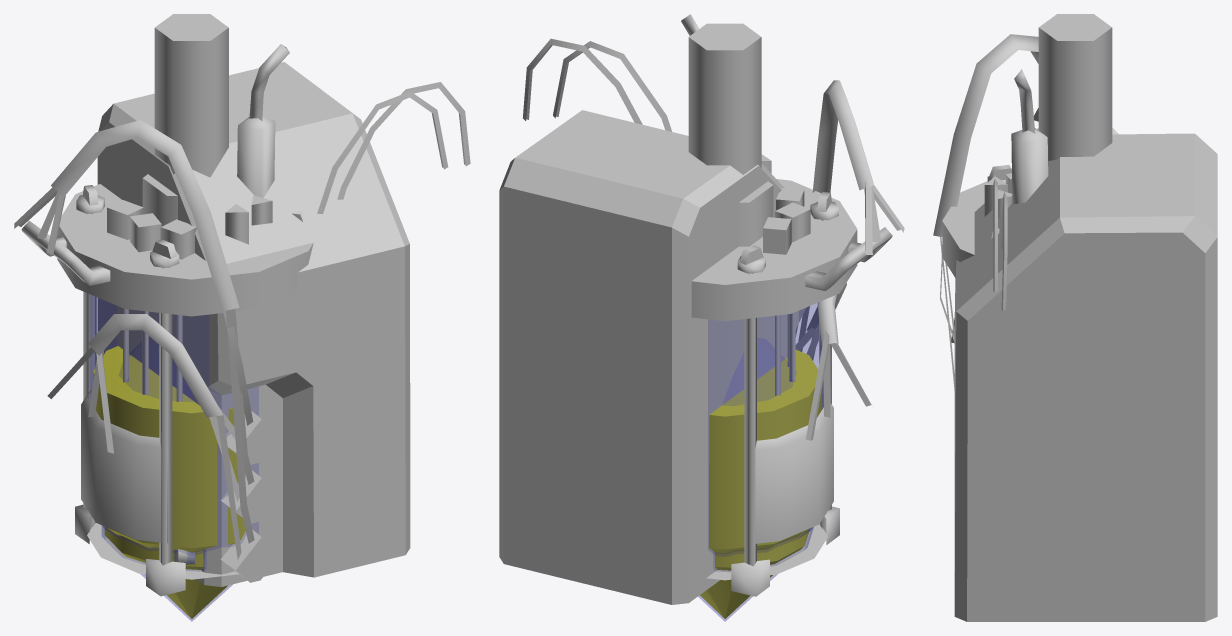
The model's file is fermentor_LOB.fbx.
3 views of the same model, side by side, from view 1: azimuth 30°, elevation 25°; view 2: azimuth 150°, elevation 25°; view 3: azimuth 270°, elevation 25° (orthographic).
Parts seen in each view (by area): view 1: cpu_LODB, fermentor_LODB, bottle_lod_B, pumps_LODB; view 2: cpu_LODB, fermentor_LODB, bottle_lod_B, pumps_LODB; view 3: cpu_LODB, fermentor_LODB, pumps_LODB.
Boxes of the visible parts, x1,y1,x2,y2 form: cpu_LODB: [14, 62, 410, 586]; fermentor_LODB: [21, 14, 313, 596]; bottle_lod_B: [102, 337, 232, 621]; pumps_LODB: [317, 82, 470, 214]; cpu_LODB: [499, 80, 904, 604]; fermentor_LODB: [681, 14, 892, 596]; bottle_lod_B: [698, 338, 813, 621]; pumps_LODB: [523, 38, 671, 131]; cpu_LODB: [933, 34, 1217, 621]; fermentor_LODB: [942, 14, 1118, 278]; pumps_LODB: [993, 178, 1007, 310].
Size of the model in its own units: 87.5 by 122 by 53.64.
